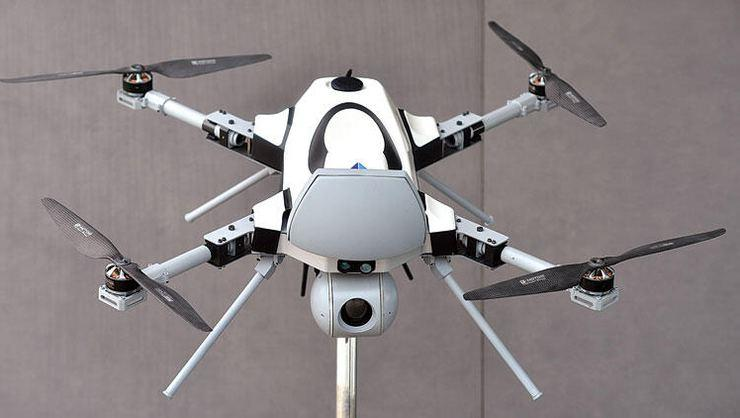drone: (28, 41, 726, 375)
